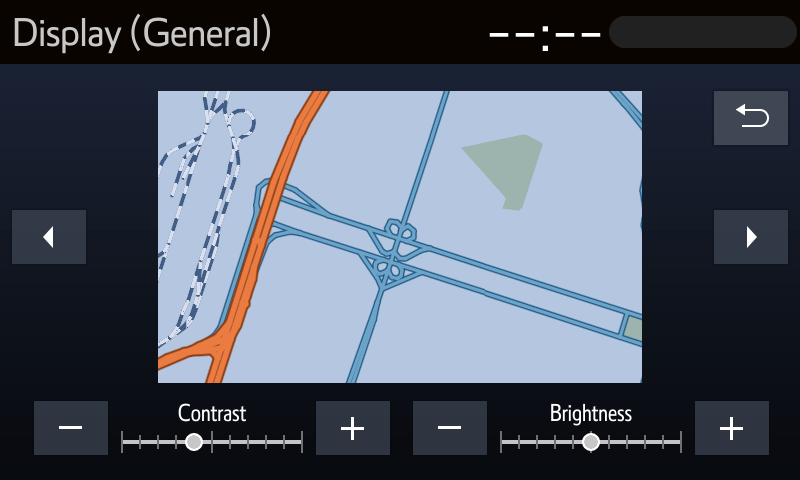touchPart: (712, 90, 788, 146), (11, 209, 86, 264), (696, 400, 770, 455), (34, 401, 108, 455), (315, 401, 390, 454), (715, 210, 786, 264), (413, 402, 488, 453)
untouchPart: (157, 89, 642, 383), (11, 9, 276, 57), (119, 402, 306, 454), (500, 402, 684, 453), (606, 14, 795, 52), (479, 15, 602, 55)
